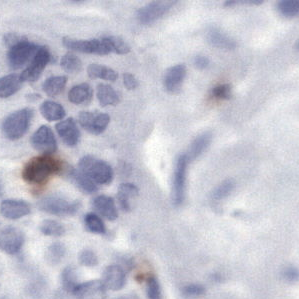Lymphocyte: (22, 155, 61, 188)
